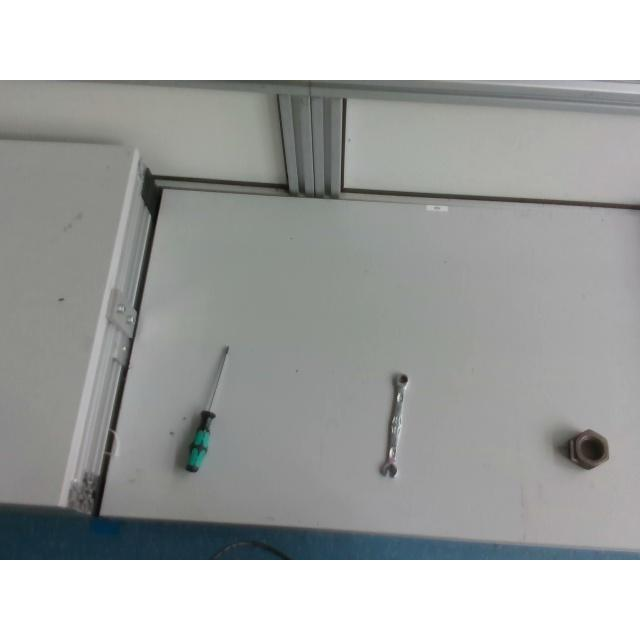M30: (568, 429, 608, 467)
Screwdriver: (188, 343, 228, 472)
Wrench: (379, 373, 408, 479)
